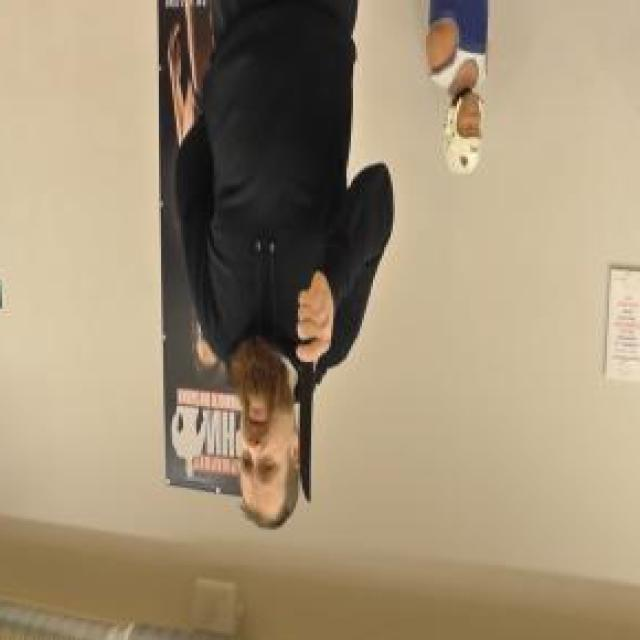knife: (290, 289, 327, 508)
